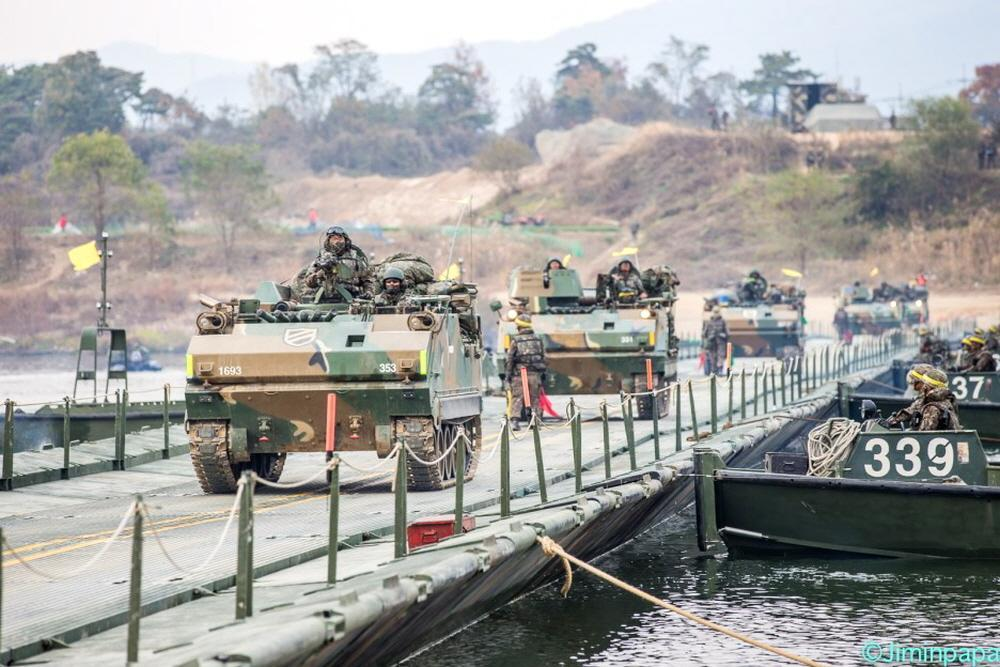MIL_IFV: (186, 226, 489, 492), (492, 249, 681, 418), (700, 268, 812, 376)
